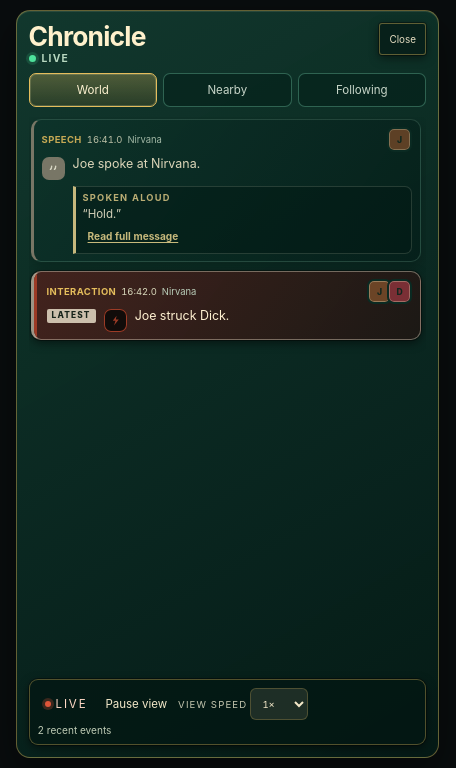
ChronicleKillfeed › clicking a card rewinds the playhead and navigates the world
Click the button "Joe spoke at Nirvana." at (136, 164), box [42, 156, 412, 180]
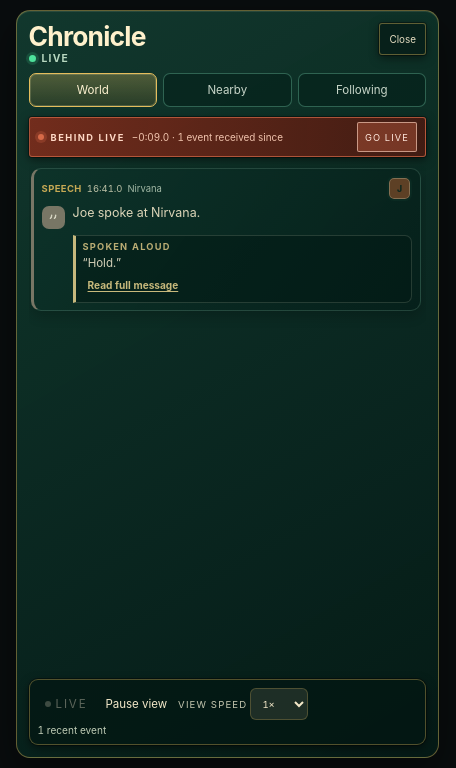
expect the message with class "chronicle-killfeed__behind" shows "Behind live": met, box [50, 132, 125, 143]
expect the message with class "chronicle-killfeed__behind" shows "1 event received since": met, box [28, 117, 426, 157]
